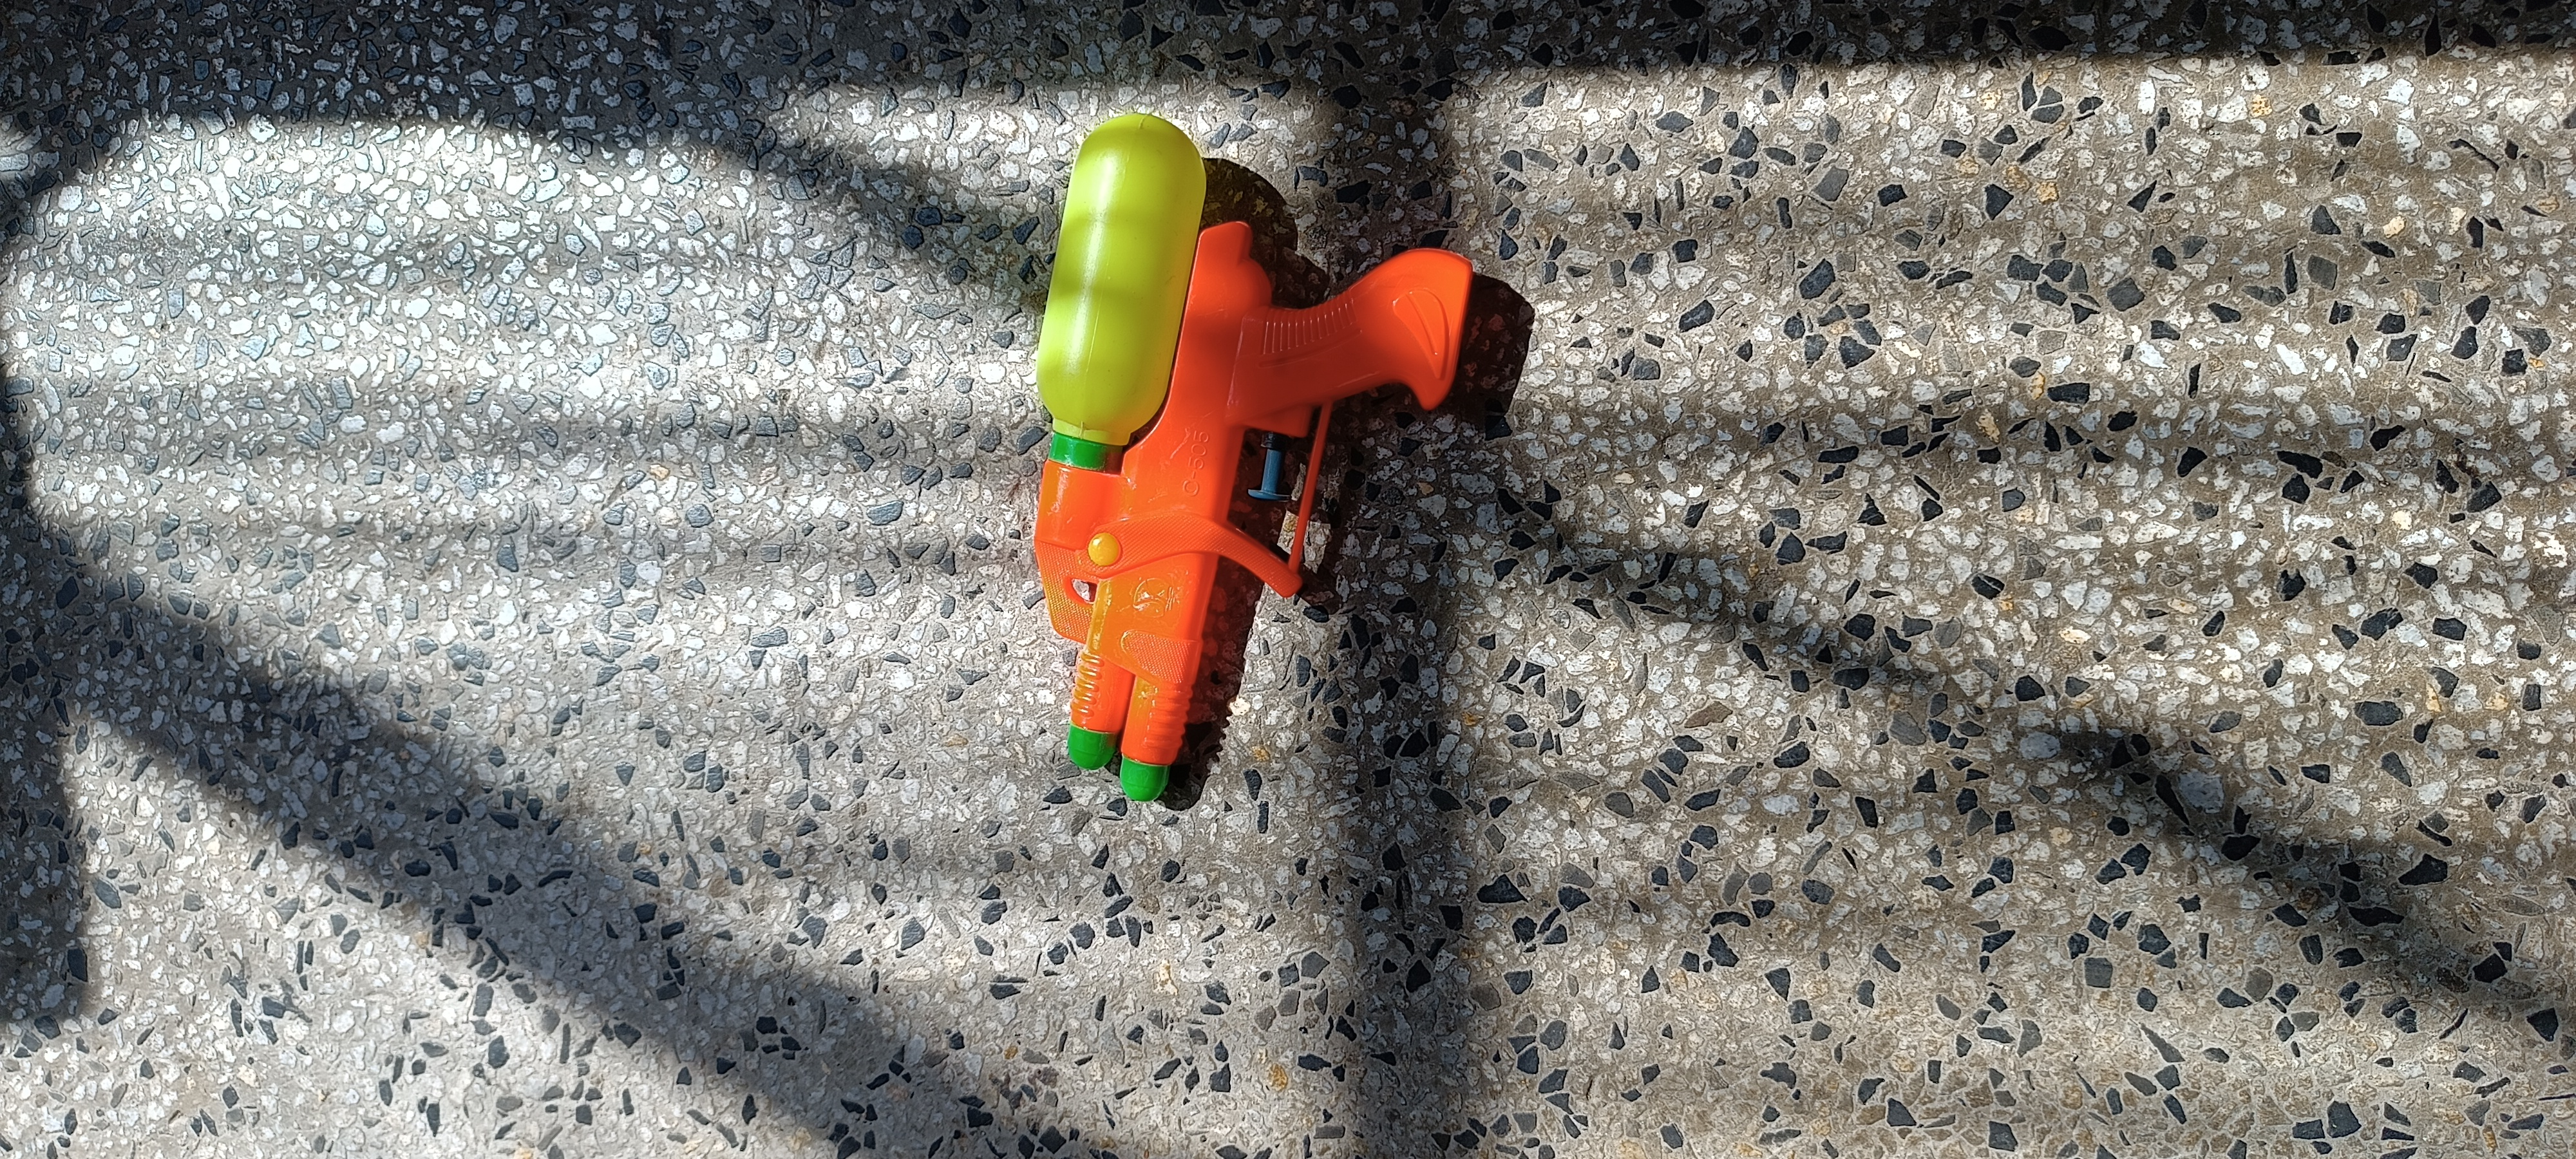Water Gun: (1032, 112, 1474, 803)
